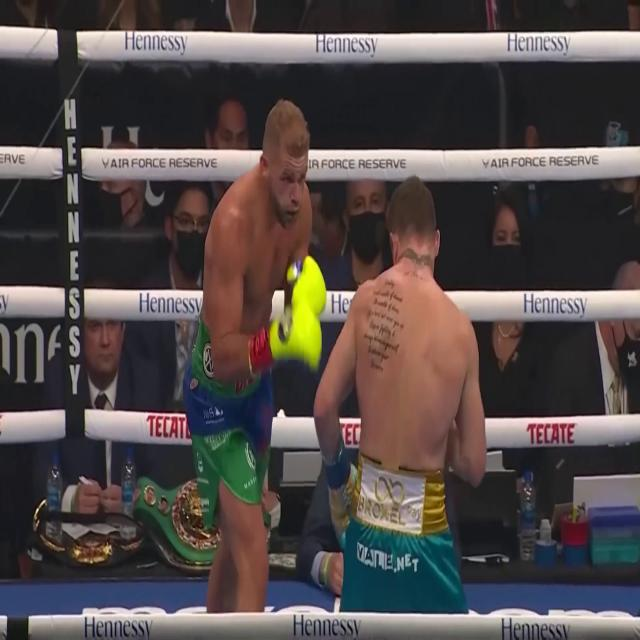boxer_1: (202, 100, 311, 382)
boxer_2: (314, 177, 487, 486)
gloves_1: (269, 255, 326, 369)
gloves_2: (324, 434, 357, 548)
